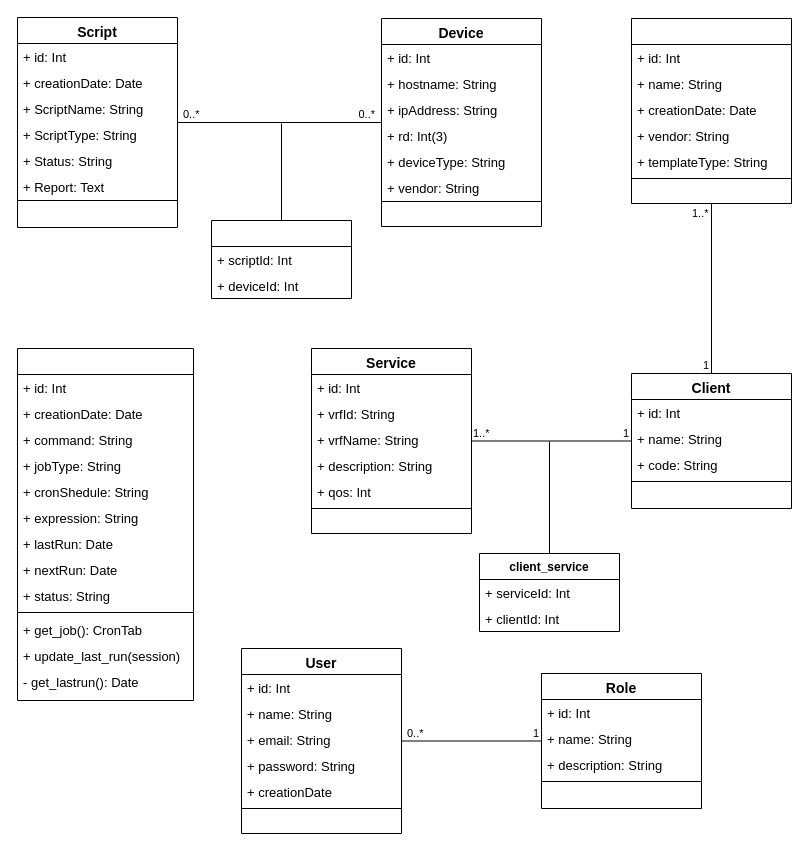
Some shapes in this 809 by 851 pixel diagram are drawn without their labels. The shapes that lost their labels are listed below. From the top down, each one's box as (x1, y1, x2, y2) in pixels, then its label:
(630, 18, 792, 204): Workorder
(210, 220, 352, 298): script_device
(16, 348, 194, 700): Cronjob
